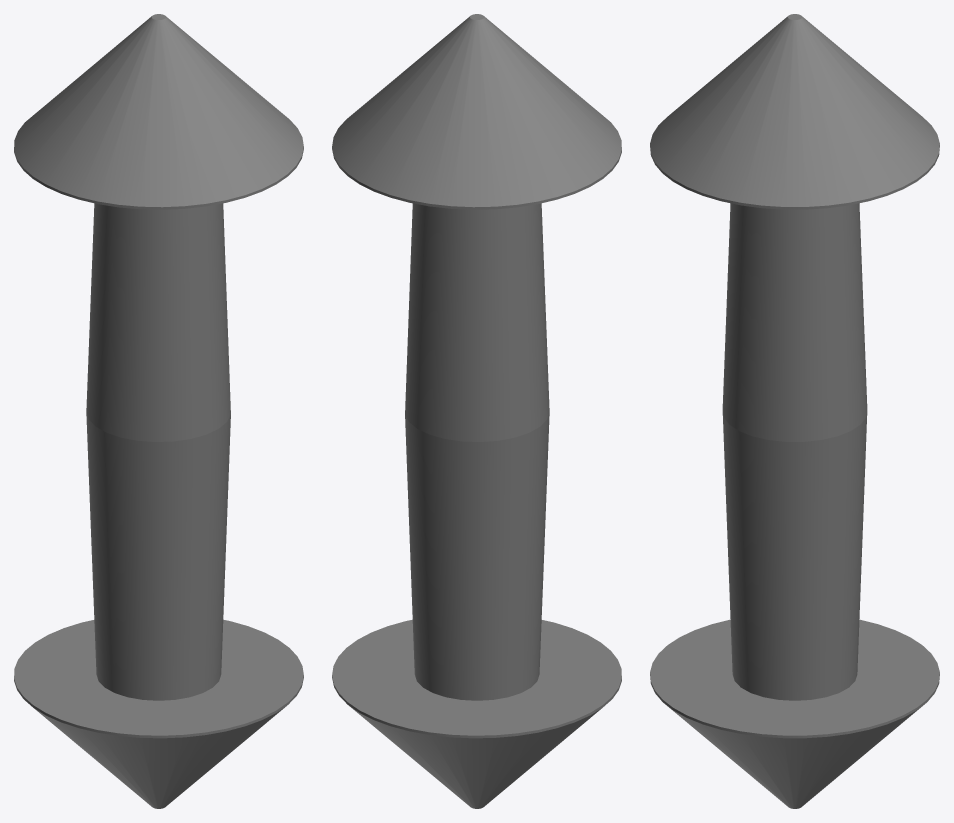
File: arrowA.glb
3 renders of one model, left to right at view 1: azimuth 30°, elevation 25°; view 2: azimuth 150°, elevation 25°; view 3: azimuth 270°, elevation 25°, orthographic.
Visible parts, largest first — view 1: node_id5; view 2: node_id5; view 3: node_id5.
Boxes of the visible parts, <box> form: node_id5: <box>14,14,303,808</box>; node_id5: <box>332,14,621,808</box>; node_id5: <box>650,14,939,808</box>.
Bounding box in the file's own units: 0.1704 × 0.512 × 0.1705.
Materials: 1 (1 with a texture image).
